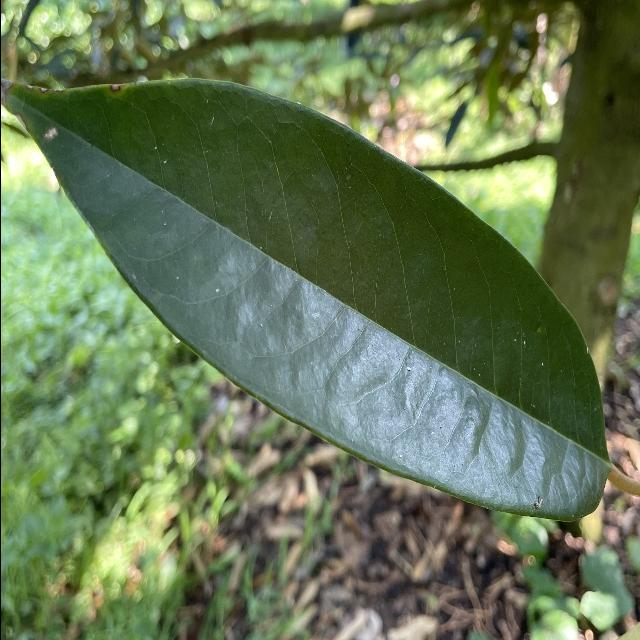No Disease: (0, 63, 615, 529)
